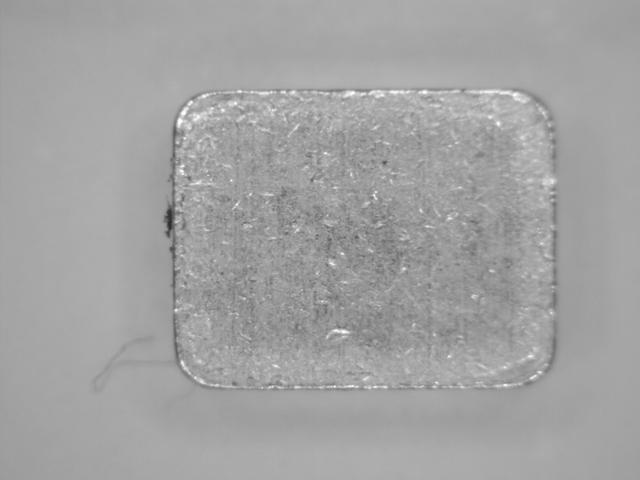ok: (162, 81, 567, 402)
